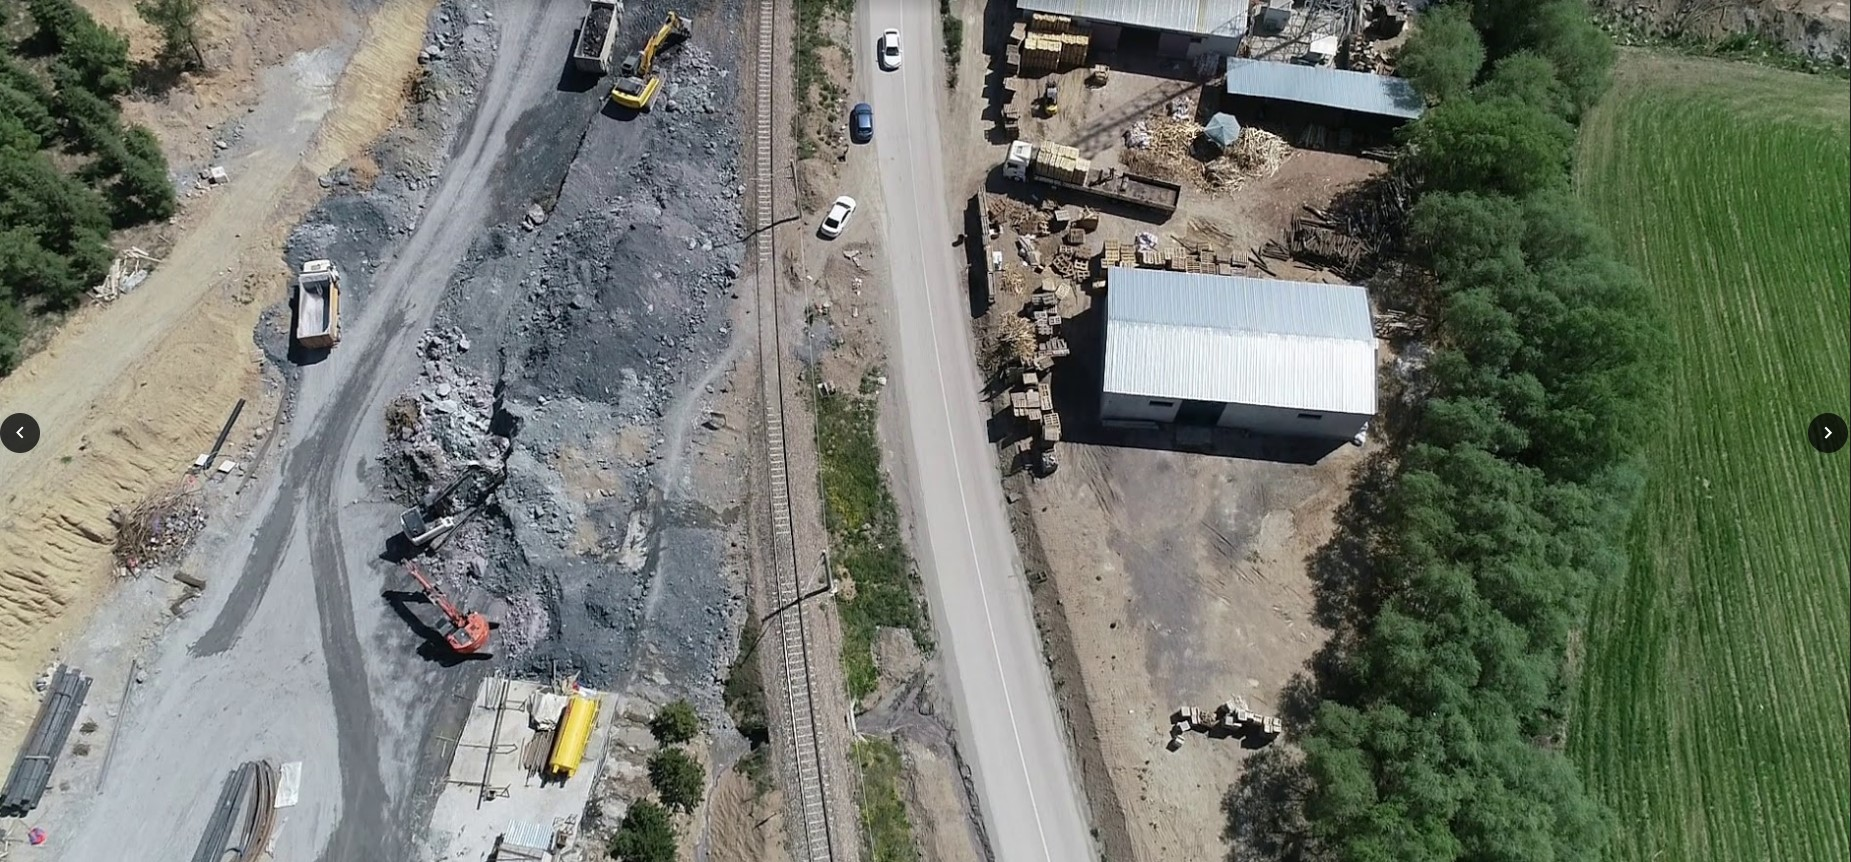araba: (815, 192, 853, 240), (849, 102, 879, 143), (875, 28, 903, 70)
ismakinasi: (394, 561, 498, 657), (607, 8, 694, 120), (395, 457, 498, 540)
kamyon: (1003, 139, 1180, 226), (292, 254, 344, 348)
